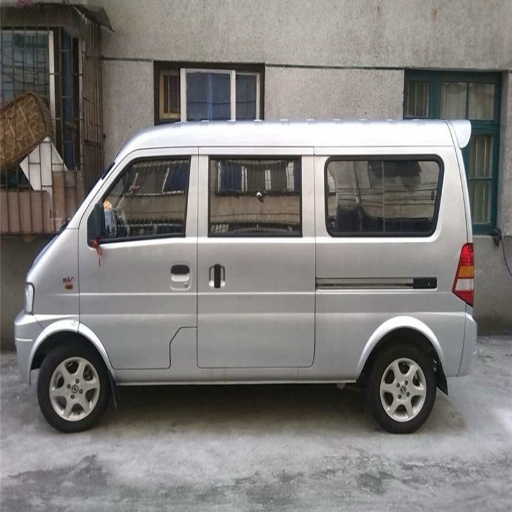back_left_door: (200, 149, 300, 334), (356, 152, 447, 227)
trunk: (213, 255, 461, 381)
